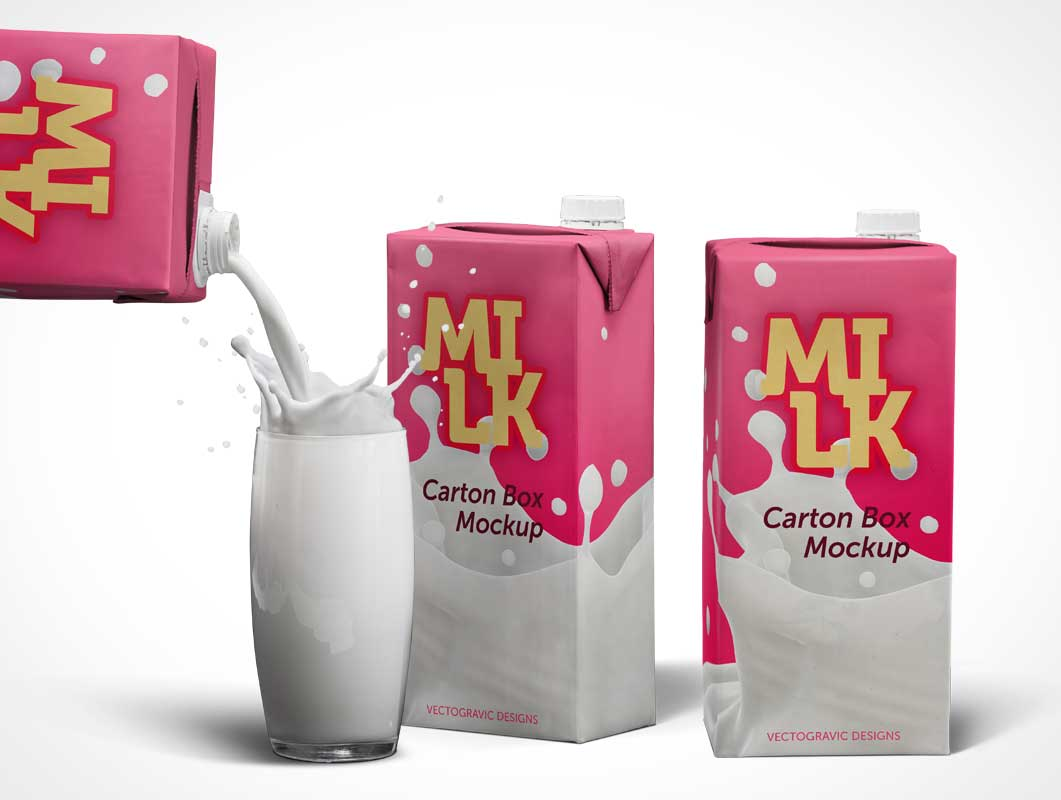carton: (347, 93, 663, 766), (683, 130, 975, 785)
